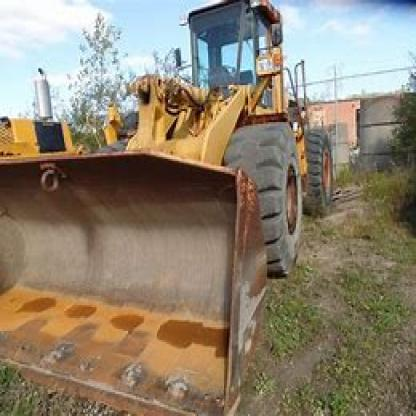bull_dozer/loader/grader: (3, 4, 339, 405)
